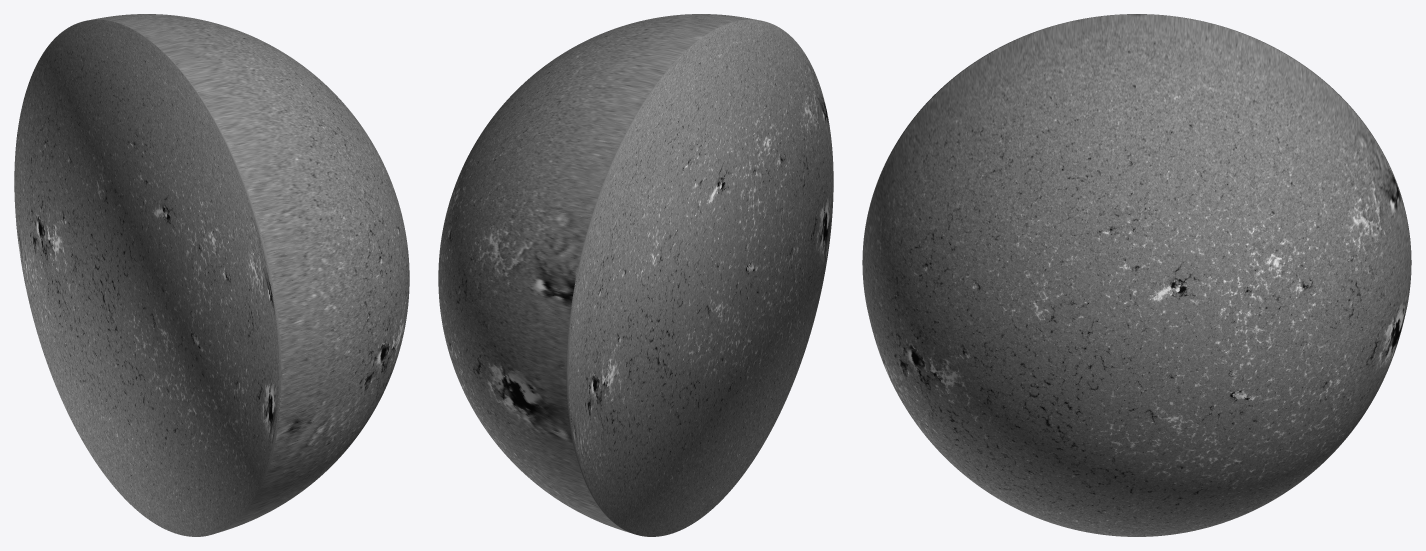
Rendered from halfspherereuved.glb.
3 renders of one model, left to right at view 1: azimuth 30°, elevation 25°; view 2: azimuth 150°, elevation 25°; view 3: azimuth 270°, elevation 25°, orthographic. The views are drawn at different scales.
Visible parts, largest first — view 1: sun; view 2: sun; view 3: sun.
Boxes of the visible parts, x1,y1,x2,y2 form: sun: (14,14,409,536); sun: (438,14,833,536); sun: (862,14,1411,536).
Size of the model in its own units: 0.5879 by 1.18 by 1.18.
1 material, 1 textured.
